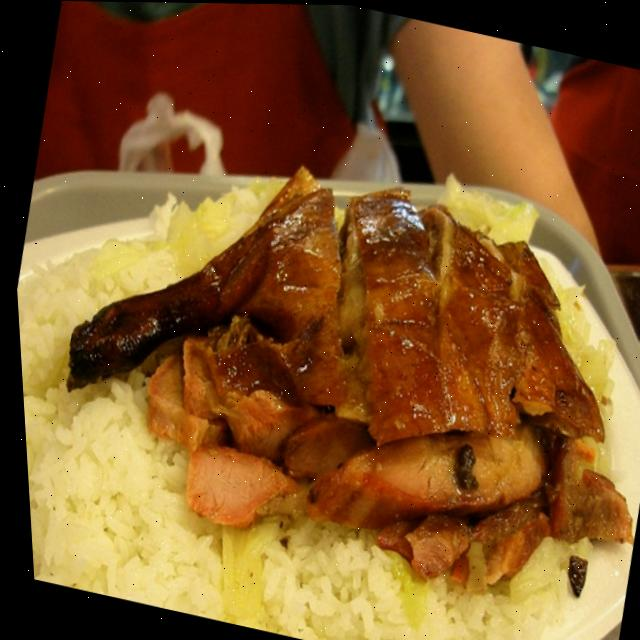米饭主食: (3, 65, 640, 640)
